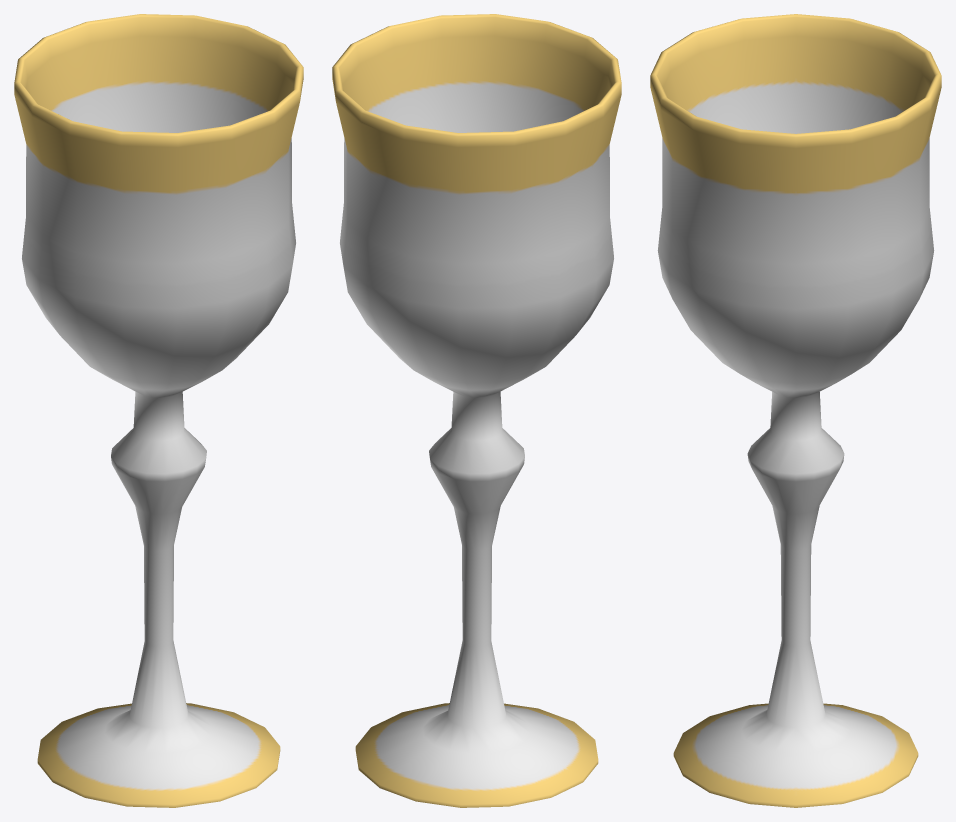
The model's file is TableGlassWare01_1.FBX.
3 views of the same model, side by side, from view 1: azimuth 30°, elevation 25°; view 2: azimuth 150°, elevation 25°; view 3: azimuth 270°, elevation 25° (orthographic).
Parts seen in each view (by area): view 1: TableGlassWare01_1; view 2: TableGlassWare01_1; view 3: TableGlassWare01_1.
Boxes of the visible parts, box(x1,y1,x2,y2) form: TableGlassWare01_1: box(14, 14, 303, 807); TableGlassWare01_1: box(332, 14, 621, 807); TableGlassWare01_1: box(650, 14, 941, 807).
Size of what is drawn, in the model's own units: 0.0864 by 0.2236 by 0.0864.
